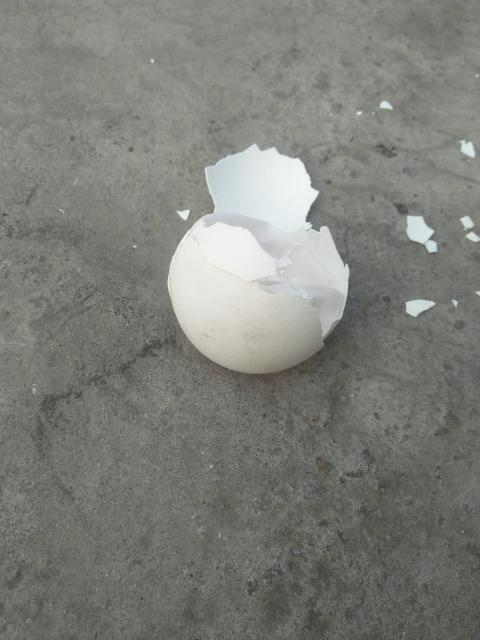Roto: (165, 142, 351, 375)
